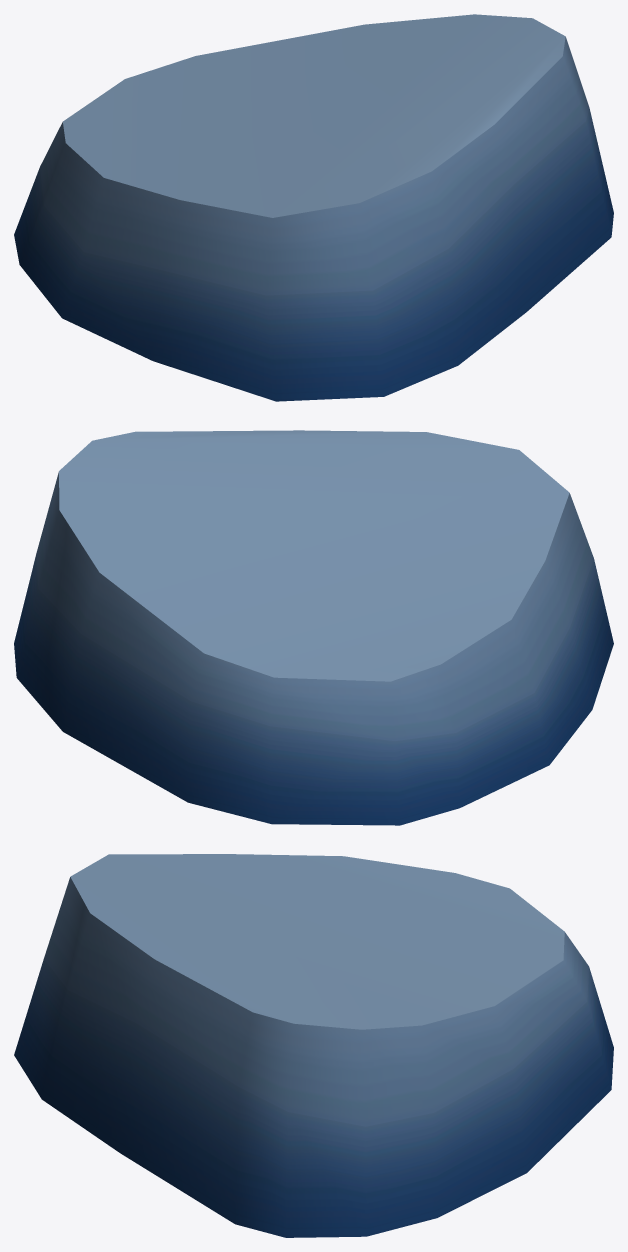
The model's file is rock-01.glb.
3 renders of one model, top to bottom at view 1: azimuth 30°, elevation 25°; view 2: azimuth 150°, elevation 25°; view 3: azimuth 270°, elevation 25°, orthographic. The views are drawn at different scales.
Visible parts, largest first — view 1: Rock 01; view 2: Rock 01; view 3: Rock 01.
Part boxes in pixels (x1,y1,x2,y2): Rock 01: (14,14,613,401); Rock 01: (14,430,613,825); Rock 01: (14,854,613,1237).
Bounding box in the file's own units: 1.44 × 0.4851 × 1.38.
1 material, 1 textured.
